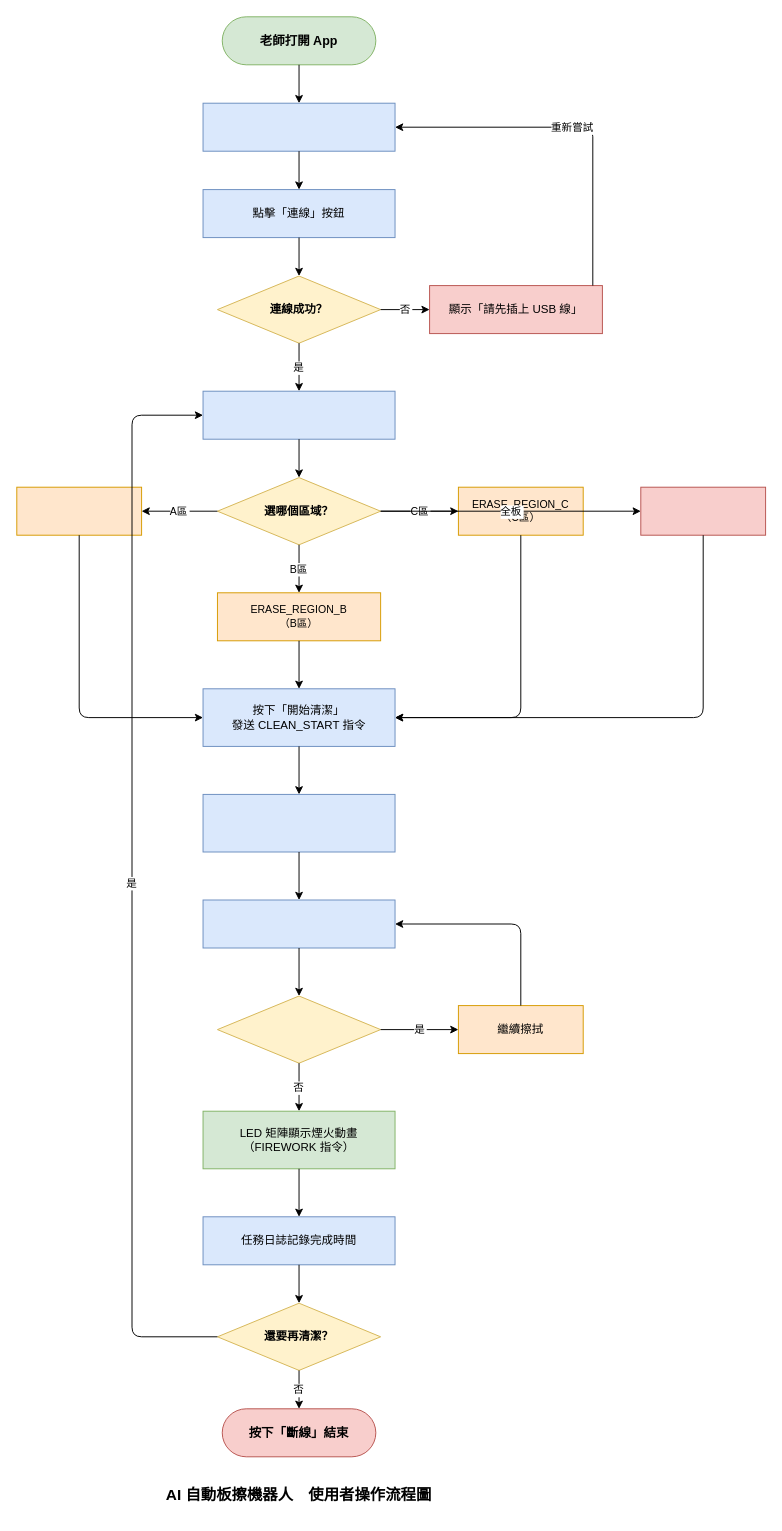
The diagram is 782 pixels wide and 1531 high, and some of its shapes have lost their labels. Each missing label, with the centre of its shape:
ERASE_ALL （全板擦除）: pixel 703 510
ERASE_REGION_A （A區）: pixel 79 510
從下拉選單選擇 COM 連接埠: pixel 298 126
機器人來回擦拭黑板: pixel 298 923
機器人移動至目標區域 （馬達啟動）: pixel 298 822
選擇擦除區域: pixel 298 414
黑板還有字跡？: pixel 298 1029
